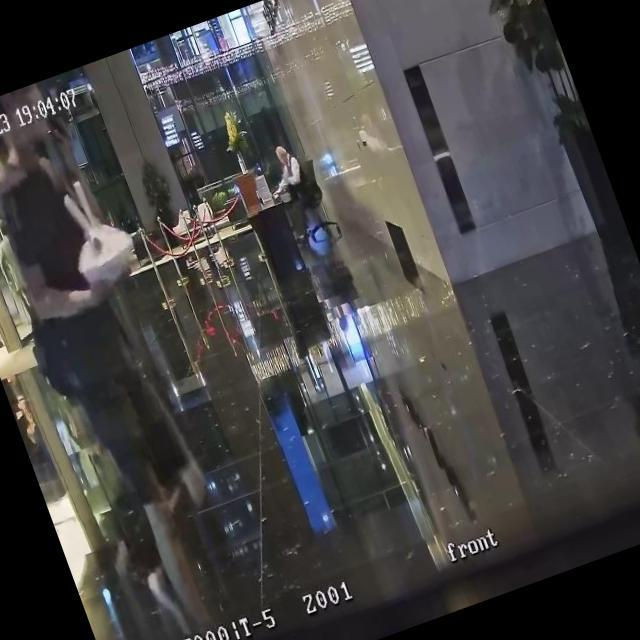person: (0, 108, 261, 640), (263, 142, 324, 242), (0, 218, 37, 318)
